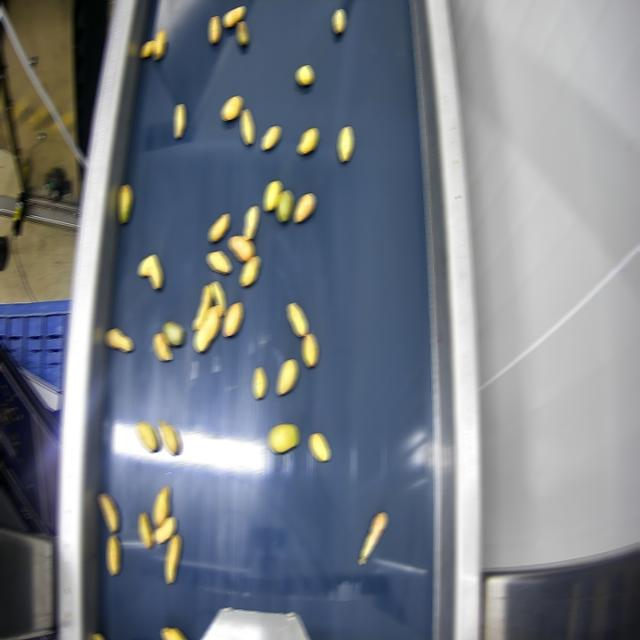Baby Potato: (359, 512, 386, 564), (196, 305, 220, 352), (269, 424, 298, 453), (193, 285, 212, 329), (138, 254, 161, 288), (276, 360, 298, 394), (99, 493, 118, 532), (166, 535, 180, 584), (288, 303, 307, 337), (161, 419, 179, 454), (137, 421, 158, 451), (154, 486, 169, 527), (231, 235, 253, 262), (153, 516, 175, 543), (224, 302, 241, 336), (106, 329, 132, 351), (240, 256, 259, 286), (310, 432, 329, 461), (209, 213, 228, 241), (207, 250, 230, 273), (296, 193, 314, 222), (119, 184, 132, 224), (264, 180, 281, 210), (298, 128, 317, 154), (241, 109, 254, 146), (163, 321, 183, 345), (303, 333, 317, 367), (244, 206, 258, 239), (222, 96, 241, 120), (339, 126, 352, 161), (278, 190, 292, 222), (223, 6, 244, 27), (141, 512, 153, 548), (155, 333, 171, 360), (213, 281, 225, 316), (109, 535, 119, 575), (264, 126, 280, 150), (254, 368, 265, 399), (297, 64, 312, 85), (155, 29, 165, 60), (175, 104, 184, 138), (162, 627, 185, 639), (333, 8, 344, 33), (237, 21, 248, 46), (210, 16, 219, 43), (141, 40, 154, 58)
